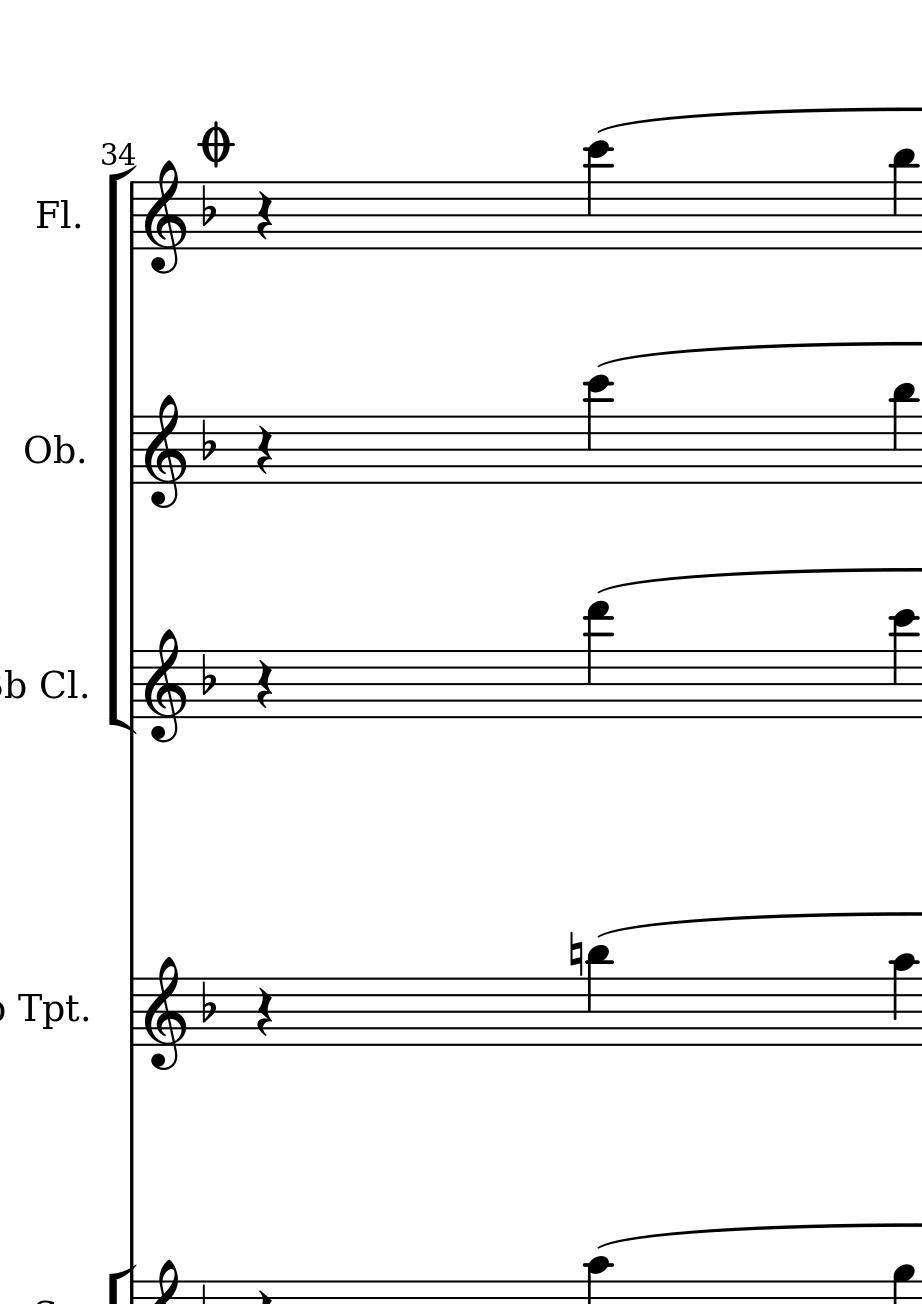3: (99, 140, 117, 167)
4: (120, 141, 136, 166)
4_10: (889, 951, 919, 1048)
4_11: (890, 147, 918, 252), (890, 382, 918, 487), (584, 944, 611, 1049)
4_12: (888, 607, 919, 721), (584, 374, 613, 487), (584, 140, 612, 252)
4_13: (584, 598, 611, 723)
Bracke: (104, 164, 135, 737)
Cl: (37, 663, 81, 703)
Coda: (197, 119, 233, 167)
Fl: (32, 196, 71, 233)
Flat: (198, 182, 218, 230), (199, 416, 217, 463), (199, 978, 217, 1025), (199, 651, 217, 697)
Gclef: (142, 628, 188, 744), (142, 159, 187, 276), (143, 955, 188, 1072), (143, 394, 187, 510)
Natural: (566, 929, 584, 979)
Ob: (23, 430, 76, 472)
Rests4: (254, 985, 275, 1039), (254, 189, 275, 242), (254, 658, 275, 711), (254, 423, 274, 477)
Single_barline: (124, 650, 143, 722), (123, 416, 142, 484), (124, 182, 142, 251), (124, 980, 140, 1047)
Tpt: (15, 986, 79, 1030)
